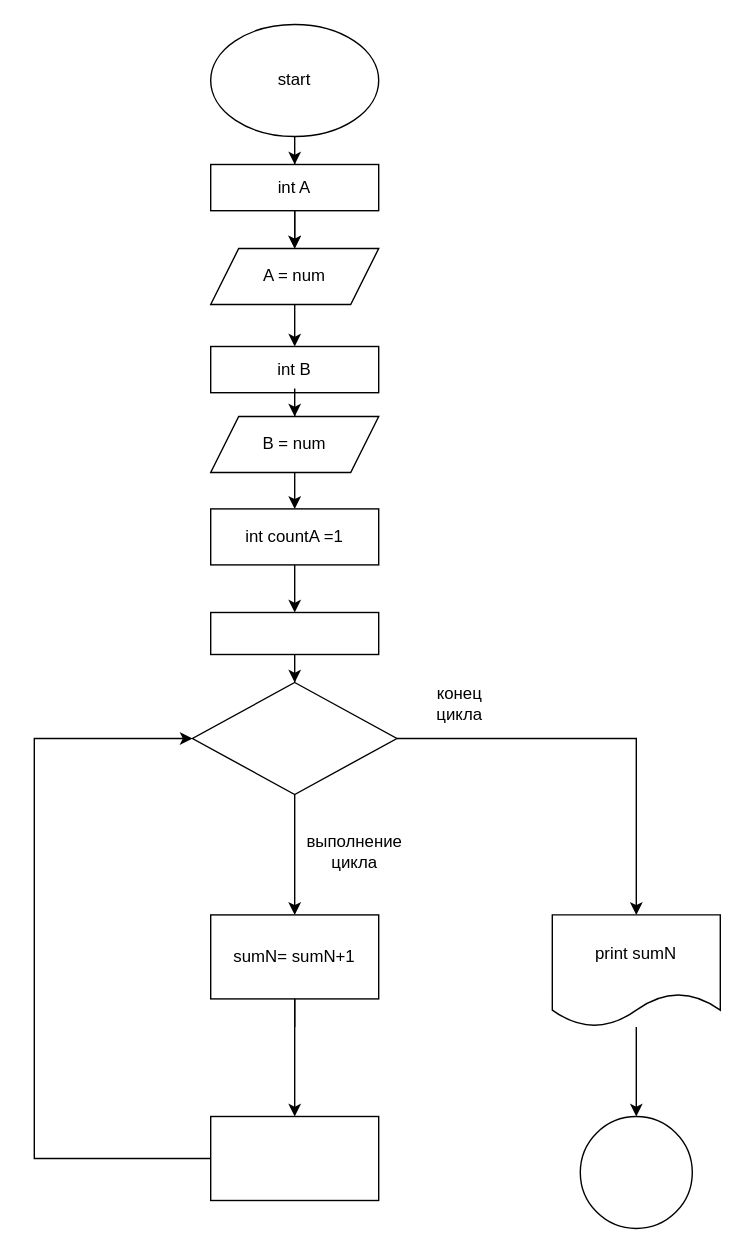
This 745x1253 diagram has some shape labels left out. Each missing label, with the box of its shape:
end: (579, 1115, 692, 1228)
i++: (209, 1115, 379, 1200)
i<=B: (191, 681, 397, 794)
i= 1: (209, 611, 379, 654)
